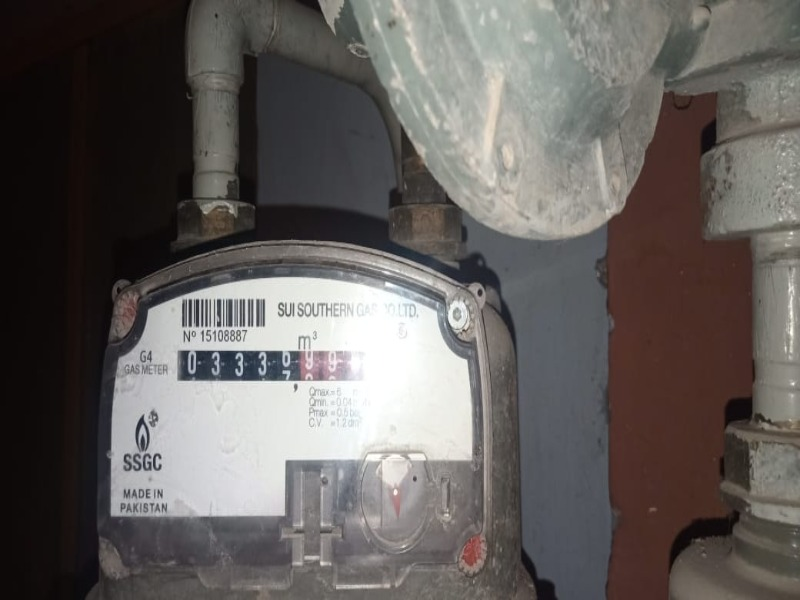ssgc: (174, 345, 359, 382)
